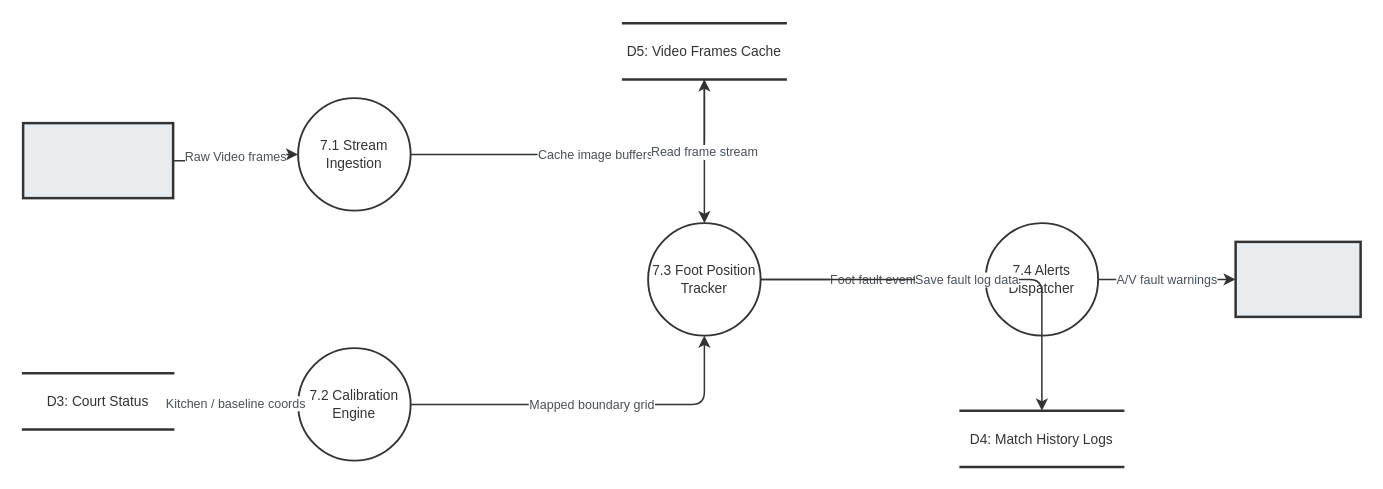
Some shapes in this 1383 by 489 pixel diagram are drawn without their labels. The shapes that lost their labels are listed below. From the top down, each one's centre as x and y in pixels, then its label:
(97,160): External Camera
(1297,279): Player
